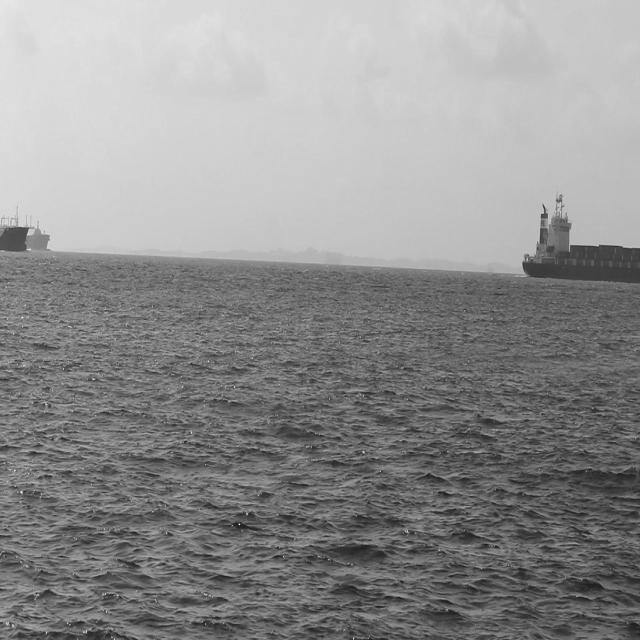ship: (522, 195, 639, 287), (0, 216, 28, 257), (27, 224, 54, 258)
